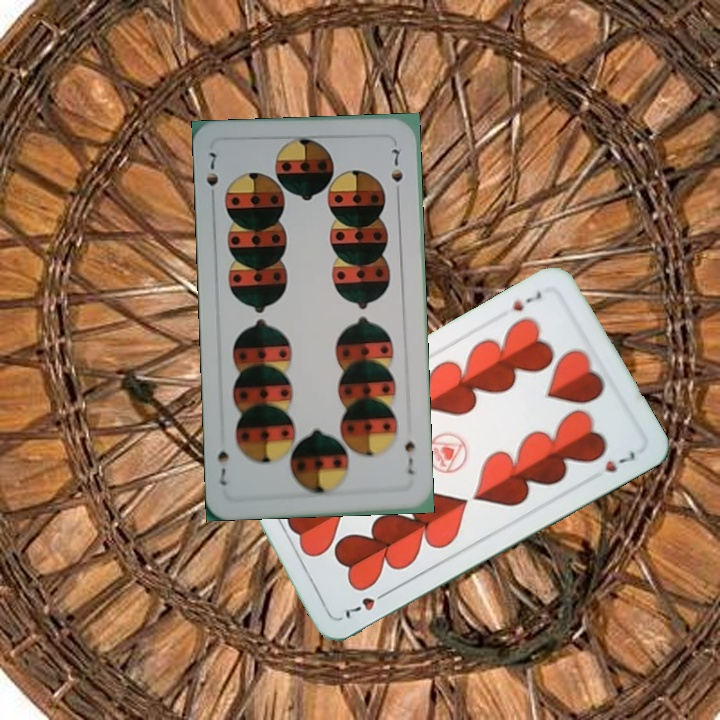H7: (341, 586, 392, 621), (508, 287, 544, 314)
S7: (202, 148, 222, 204), (400, 436, 417, 477)
